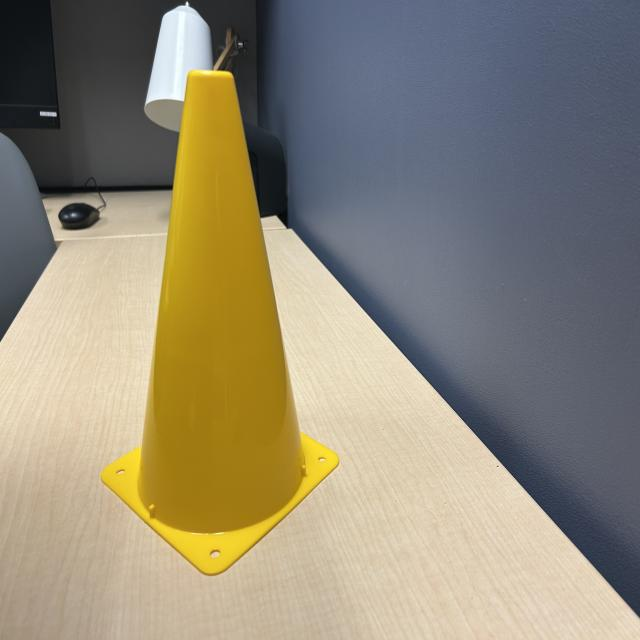yellow cone: (90, 68, 344, 583)
